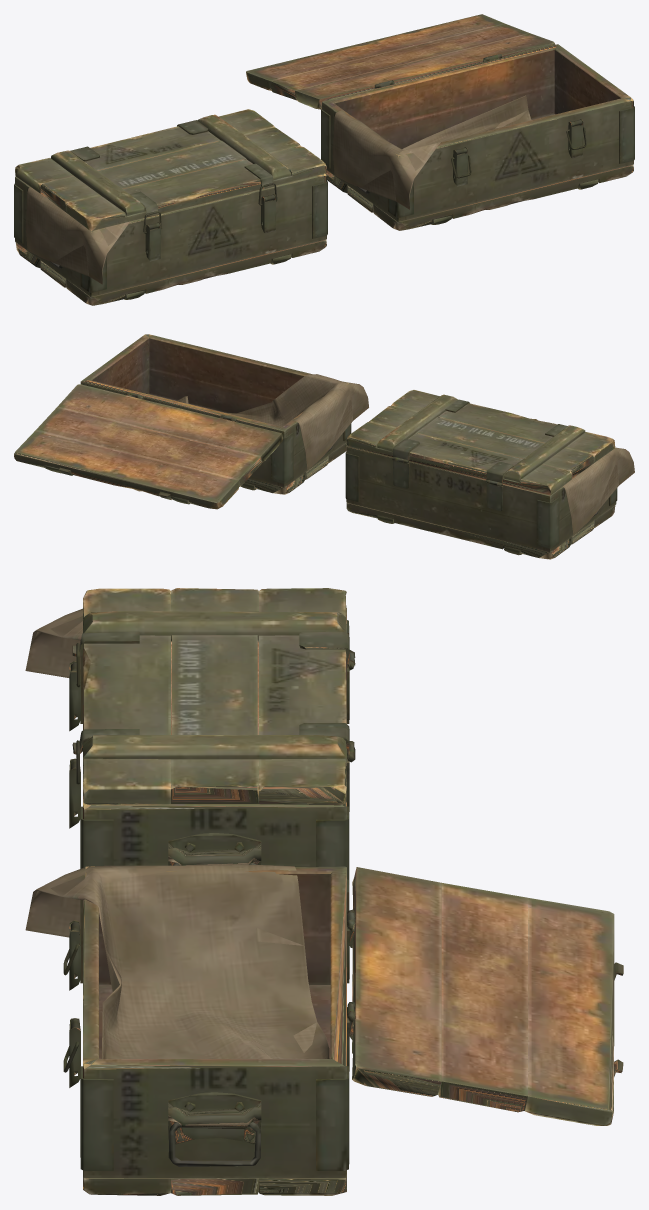
Rendered from military_crate.glb.
The picture shows the model from 3 angles, top to bottom: view 1: azimuth 30°, elevation 25°; view 2: azimuth 150°, elevation 25°; view 3: azimuth 270°, elevation 25°; orthographic projection. The views are drawn at different scales.
Parts seen in each view (by area): view 1: old_military_crate_b, old_military_crate_lid_a, old_military_crate_a, old_military_crate_lid_b, old_military_crate_cloth_b, old_military_crate_cloth_a, old_military_crate_latch_a, old_military_crate_latch_b; view 2: old_military_crate_lid_b, old_military_crate_lid_a, old_military_crate_a, old_military_crate_b, old_military_crate_cloth_b, old_military_crate_cloth_a; view 3: old_military_crate_lid_a, old_military_crate_lid_b, old_military_crate_b, old_military_crate_cloth_b, old_military_crate_a, old_military_crate_cloth_a, old_military_crate_latch_b, old_military_crate_latch_a.
Boxes of the visible parts, left/top/right/bottom form: old_military_crate_b: left=321, top=44, right=634, bottom=230; old_military_crate_lid_a: left=15, top=109, right=326, bottom=230; old_military_crate_a: left=14, top=173, right=327, bottom=305; old_military_crate_lid_b: left=246, top=14, right=555, bottom=109; old_military_crate_cloth_b: left=333, top=95, right=531, bottom=209; old_military_crate_cloth_a: left=25, top=187, right=129, bottom=284; old_military_crate_latch_a: left=145, top=194, right=275, bottom=261; old_military_crate_latch_b: left=453, top=119, right=583, bottom=186; old_military_crate_lid_b: left=14, top=384, right=282, bottom=509; old_military_crate_lid_a: left=346, top=390, right=615, bottom=495; old_military_crate_a: left=345, top=445, right=617, bottom=559; old_military_crate_b: left=80, top=334, right=351, bottom=494; old_military_crate_cloth_b: left=176, top=374, right=368, bottom=470; old_military_crate_cloth_a: left=563, top=447, right=634, bottom=535; old_military_crate_lid_a: left=72, top=588, right=355, bottom=805; old_military_crate_lid_b: left=347, top=867, right=623, bottom=1125; old_military_crate_b: left=80, top=866, right=354, bottom=1195; old_military_crate_cloth_b: left=25, top=864, right=329, bottom=1058; old_military_crate_a: left=80, top=608, right=355, bottom=884; old_military_crate_cloth_a: left=25, top=608, right=82, bottom=677; old_military_crate_latch_b: left=69, top=920, right=80, bottom=1087; old_military_crate_latch_a: left=69, top=660, right=80, bottom=828.
Size of the model in its own units: 1.81 by 0.3009 by 0.9743.
1 material, 1 textured.
